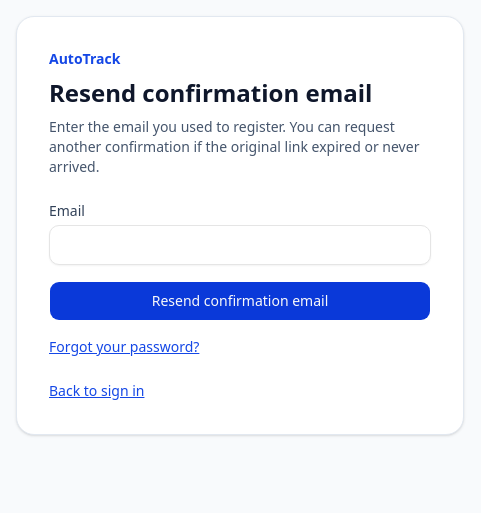
it: email recovery requests › server failures do not claim delivery or reveal account existence
Type "ada@example.test" into the field labelled "Email".
click(240, 245); type("ada@example.test")  # box left=49, top=225, right=431, bottom=265
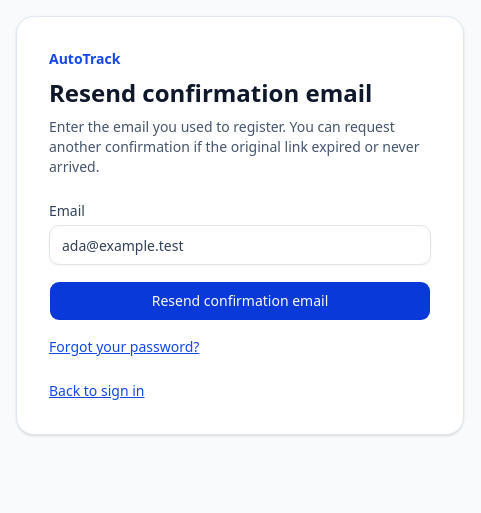
Submit the form, box left=49, top=201, right=431, bottom=321
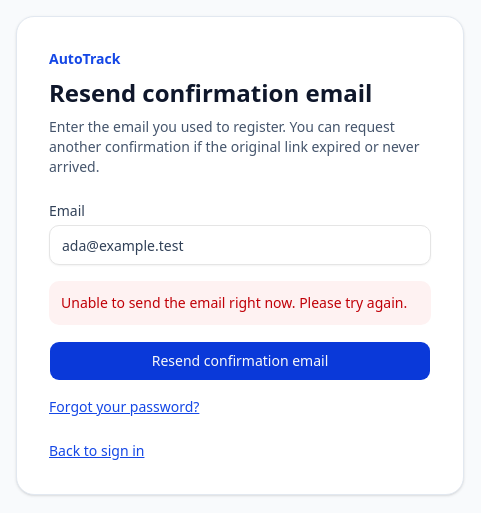
Expected: the button is enabled, left=49, top=341, right=431, bottom=381
Expected: the message shows "Unable to send", left=61, top=293, right=407, bottom=312
